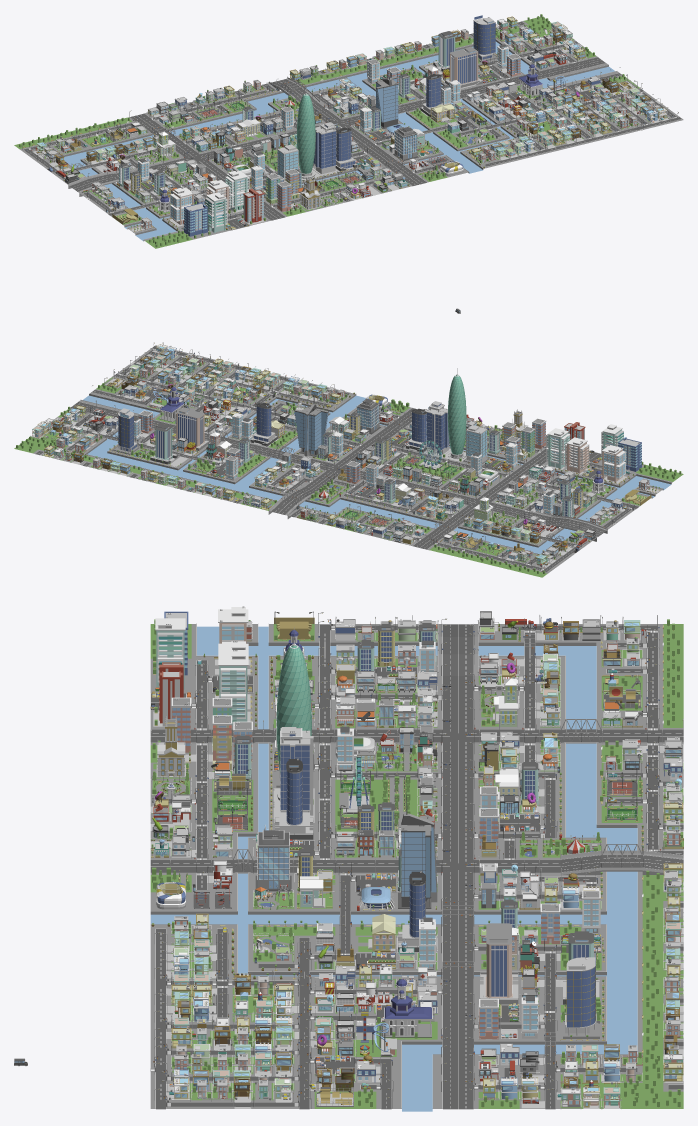
Rendered from city.glb.
The picture shows the model from 3 angles, top to bottom: view 1: azimuth 30°, elevation 25°; view 2: azimuth 150°, elevation 25°; view 3: azimuth 270°, elevation 25°; orthographic projection. The views are drawn at different scales.
Parts seen in each view (by area): view 1: Cylinder.018, Plane.051, Plane.001, Plane.045, Plane.003, Plane.034, Plane.035, Plane.037, Plane.049, Plane.036, Plane.040, Plane.039 (+5 smaller); view 2: Cylinder.018, Plane.045, Plane.001, Plane.051, Plane.039, Plane.043, Plane.036, Plane.134, Plane.003, Plane.046, Plane.004, Plane.049 (+5 smaller); view 3: Plane.045, Cylinder.018, Plane.003, Plane.051, Plane.001, Plane.035, Plane.033, Plane.049, Plane.036, Plane.034, Plane.134, Plane.018 (+75 smaller).
Boxes of the visible parts, box(x1,y1,x2,y2) form: Cylinder.018: box(296, 87, 315, 178); Plane.051: box(445, 46, 482, 88); Plane.001: box(312, 122, 337, 175); Plane.045: box(375, 68, 398, 128); Plane.003: box(473, 15, 497, 62); Plane.034: box(205, 192, 227, 232); Plane.035: box(393, 126, 418, 160); Plane.037: box(184, 203, 207, 236); Plane.049: box(335, 127, 357, 171); Plane.036: box(225, 171, 249, 211); Plane.040: box(243, 188, 264, 222); Plane.039: box(170, 187, 193, 224); Cylinder.018: box(447, 368, 466, 459); Plane.045: box(294, 392, 328, 456); Plane.001: box(426, 401, 450, 456); Plane.051: box(172, 407, 209, 450); Plane.039: box(602, 445, 625, 482); Plane.043: box(565, 437, 589, 473); Plane.036: box(546, 428, 570, 468); Plane.134: box(250, 402, 277, 446); Plane.003: box(112, 408, 139, 455); Plane.046: box(150, 424, 177, 464); Plane.004: box(463, 425, 489, 463); Plane.049: box(406, 408, 427, 452); Plane.045: box(398, 792, 437, 908); Cylinder.018: box(276, 632, 311, 800); Plane.003: box(563, 953, 599, 1038); Plane.051: box(480, 923, 518, 1004); Plane.001: box(277, 727, 313, 818); Plane.035: box(255, 830, 291, 891); Plane.033: box(381, 973, 432, 1037); Plane.049: box(275, 758, 313, 839); Plane.036: box(218, 650, 248, 724); Plane.034: box(155, 618, 185, 689); Plane.134: box(398, 871, 436, 952); Plane.018: box(156, 715, 185, 777).
Bounding box in the file's own units: 224 × 77.74 × 131.
Materials: 2 (1 with a texture image).
